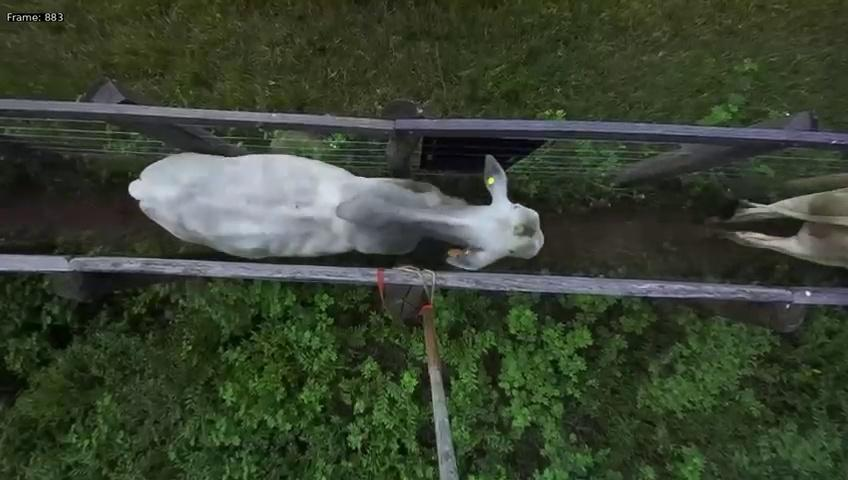cattle: (128, 148, 544, 271)
